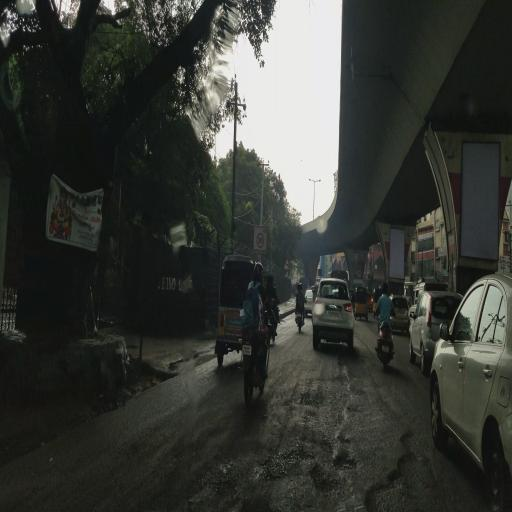street_light_0: (313, 176, 323, 190), (305, 174, 315, 188)
